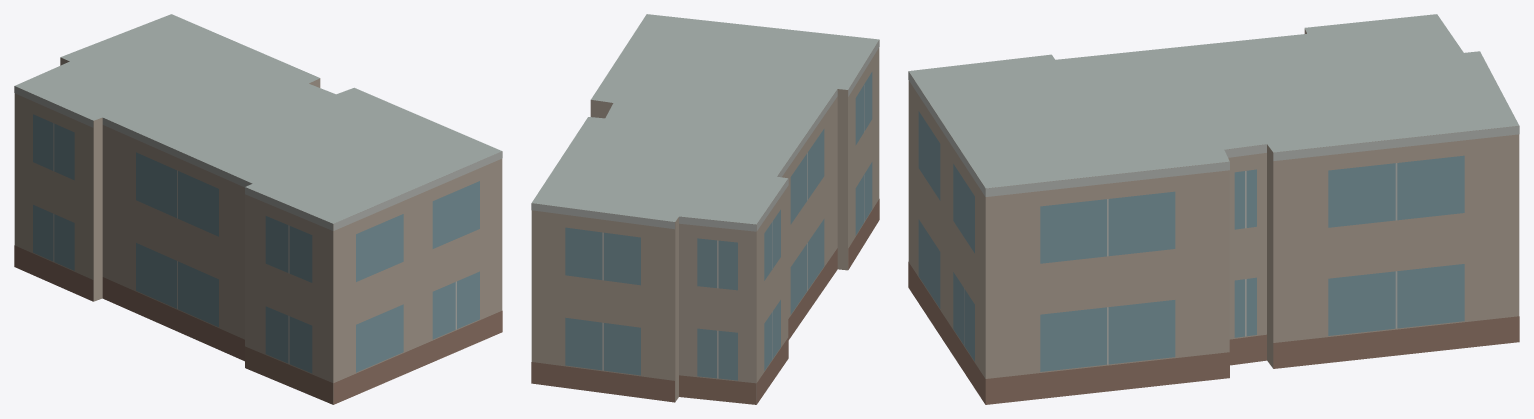
File: survey-upis-32653173.glb
The picture shows the model from 3 angles, left to right: view 1: azimuth 30°, elevation 25°; view 2: azimuth 150°, elevation 25°; view 3: azimuth 270°, elevation 25°; orthographic projection. The views are drawn at different scales.
Visible parts, largest first — view 1: survey-upis-32653173.tmp; view 2: survey-upis-32653173.tmp; view 3: survey-upis-32653173.tmp.
Boxes of the visible parts, x1,y1,x2,y2 form: survey-upis-32653173.tmp: (14, 14, 502, 404); survey-upis-32653173.tmp: (531, 14, 879, 404); survey-upis-32653173.tmp: (908, 14, 1519, 404).
Bounding box in the file's own units: 10.56 × 6.1 × 15.62.
